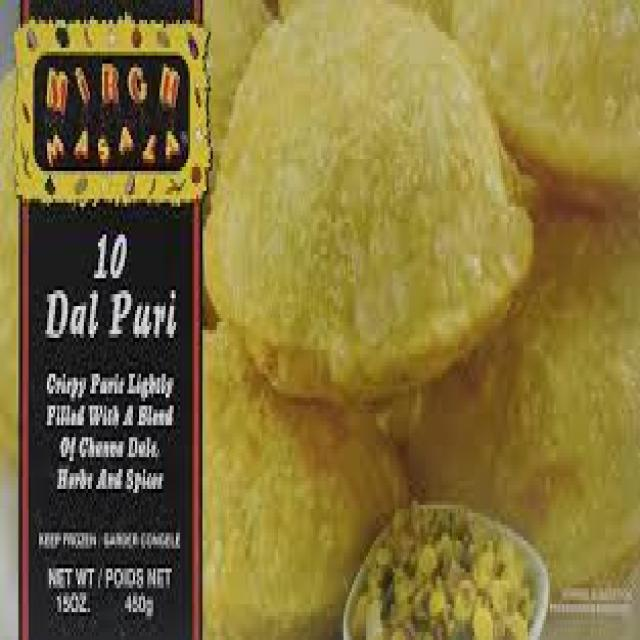puri: (216, 19, 633, 508)
